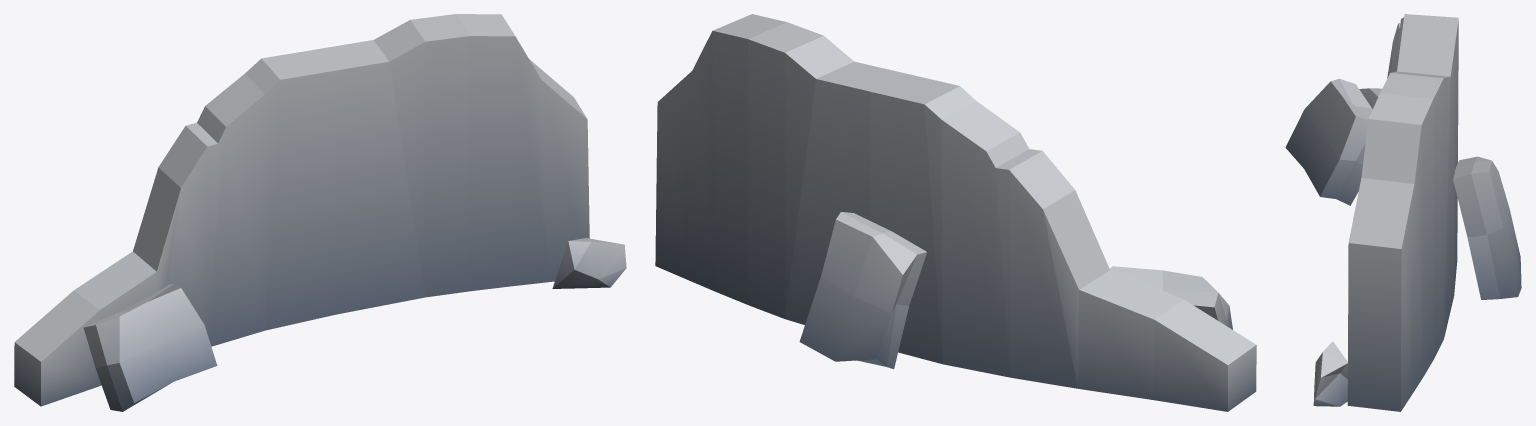
Rendered from Wall Ruin 1.fbx.
3 renders of one model, left to right at view 1: azimuth 30°, elevation 25°; view 2: azimuth 150°, elevation 25°; view 3: azimuth 270°, elevation 25°, orthographic. The views are drawn at different scales.
Visible parts, largest first — view 1: Broken Wall; view 2: Broken Wall; view 3: Broken Wall.
Boxes of the visible parts, x1,y1,x2,y2 form: Broken Wall: (14,14,626,411); Broken Wall: (655,14,1256,411); Broken Wall: (1285,14,1521,411).
Size of the model in its own units: 802 by 348 by 284.
